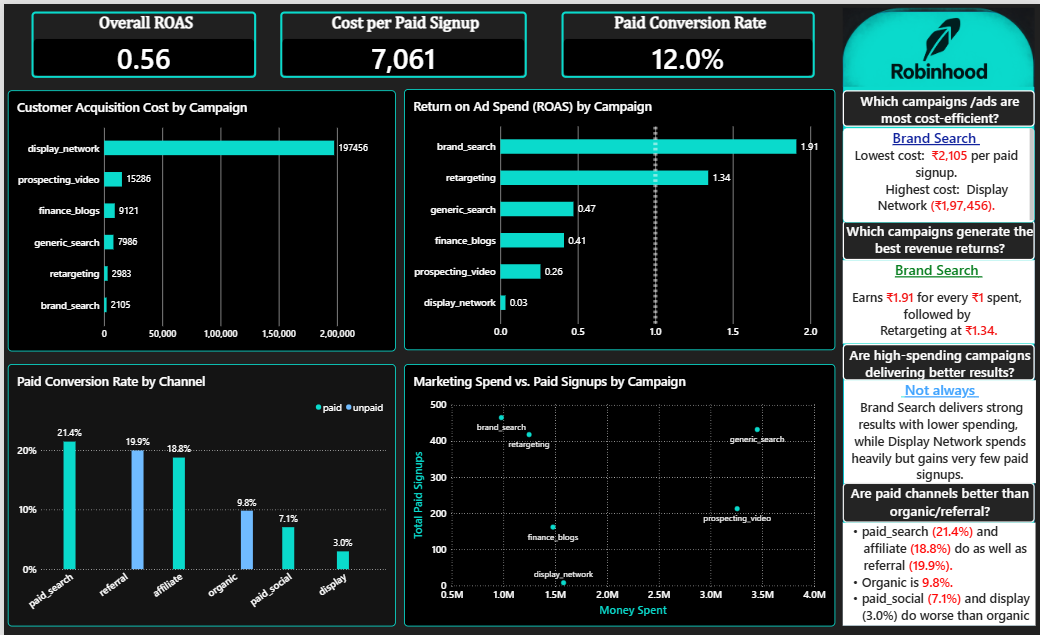

This screenshot's page, from the dashboard's own definition file:
{"tool":"powerbi","page":{"name":"Page 2","canvas":[1980,1208],"ordinal":1},"visuals":[{"type":"shape","box":[1597.8,15.2,365.2,1169.6],"z":0},{"type":"clusteredBarChart","title":"Customer Acquisition Cost by Campaign","fields":{"Category":["Ad List.campaign"],"Y":["Ad List.Cost per Paid Subscriber"]},"box":[6.5,165.2,739.1,497.8],"z":1000},{"type":"clusteredBarChart","title":"\tReturn on Ad Spend (ROAS) by Campaign","fields":{"Category":["Ad List.campaign"],"Y":["Ad List.ROAS"]},"box":[760.9,163,821.7,497.8],"z":2000},{"type":"scatterChart","title":"Marketing Spend vs. Paid Signups by Campaign","fields":{"Category":["Ad List.campaign"],"X":["ads.Money Spent"],"Y":["ads.Total Paid Signups"]},"box":[760.9,684.8,821.7,500],"z":3000},{"type":"clusteredColumnChart","title":"\tPaid Conversion Rate by Channel","fields":{"Category":["signups.channel"],"Y":["Ad List.Paid Conversion Rate"],"Series":["signups.channel_type"]},"box":[6.5,684.8,739.1,500],"z":4000},{"type":"textbox","title":"Which campaigns /ads are most cost-efficient?","box":[1597.8,165.2,365.2,69.6],"z":5000},{"type":"textbox","title":" Which campaigns generate the best revenue returns?","box":[1597.8,413,365.2,76.1],"z":6000},{"type":"textbox","box":[1597.8,234.8,365.2,180.4],"z":7000},{"type":"textbox","box":[1597.8,489.1,365.2,158.7],"z":8000},{"type":"textbox","box":[1600,717.4,365.2,195.7],"z":9000},{"type":"textbox","box":[1597.8,989.1,367.4,195.7],"z":10000},{"type":"textbox","title":" Are high-spending campaigns delivering better results?","box":[1597.8,647.8,365.2,69.6],"z":11000},{"type":"textbox","title":"Are paid channels better than organic/referral?","box":[1597.8,913,365.2,76.1],"z":12000},{"type":"cardVisual","title":"Overall ROAS","fields":{"Data":["Ad List.Overall ROAS"]},"box":[52.2,15.2,428.3,126.1],"z":13000},{"type":"cardVisual","title":"Cost per Paid Signup","fields":{"Data":["Ad List.Cost per Paid Signup"]},"box":[526.1,15.2,469.6,126.1],"z":14000},{"type":"cardVisual","title":"Paid Conversion Rate","fields":{"Data":["Ad List.Paid Conversion Rate"]},"box":[1063,15.2,482.6,126.1],"z":15000},{"type":"image","box":[1597.8,0,365.2,165.2],"z":16000}]}

Visuals, with their boxes in screenshot pixels (x1, y1, x2, y2), scaled from the page's 1980x1208 canvas onto the 1040x635 screenshot:
shape: 839 8 1031 623
"Customer Acquisition Cost by Campaign" clusteredBarChart: 3 87 392 349
"	Return on Ad Spend (ROAS) by Campaign" clusteredBarChart: 400 86 831 347
"Marketing Spend vs. Paid Signups by Campaign" scatterChart: 400 360 831 623
"	Paid Conversion Rate by Channel" clusteredColumnChart: 3 360 392 623
"Which campaigns /ads are most cost-efficient?" textbox: 839 87 1031 123
" Which campaigns generate the best revenue returns?" textbox: 839 217 1031 257
textbox: 839 123 1031 218
textbox: 839 257 1031 341
textbox: 840 377 1032 480
textbox: 839 520 1032 623
" Are high-spending campaigns delivering better results?" textbox: 839 341 1031 377
"Are paid channels better than organic/referral?" textbox: 839 480 1031 520
"Overall ROAS" cardVisual: 27 8 252 74
"Cost per Paid Signup" cardVisual: 276 8 523 74
"Paid Conversion Rate" cardVisual: 558 8 812 74
image: 839 0 1031 87
